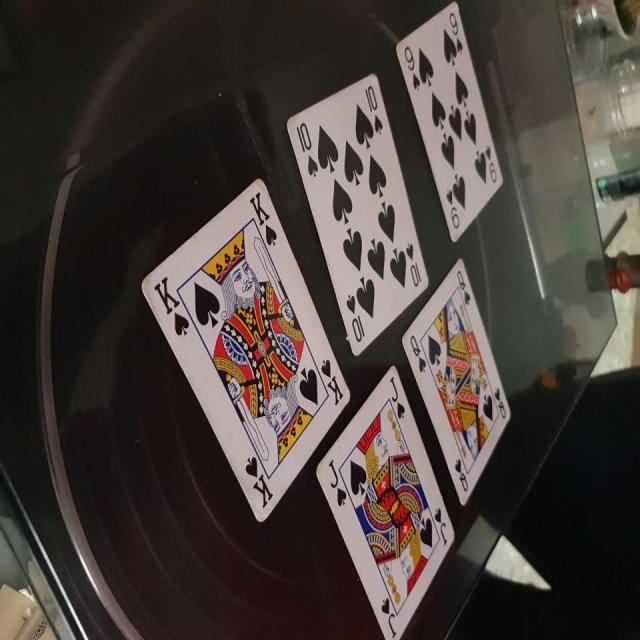10 Spades: (282, 68, 431, 354)
9 Spades: (392, 4, 514, 250)
J Spades: (304, 369, 458, 638)
K Spades: (134, 176, 352, 526)
Q Spades: (396, 255, 514, 512)
